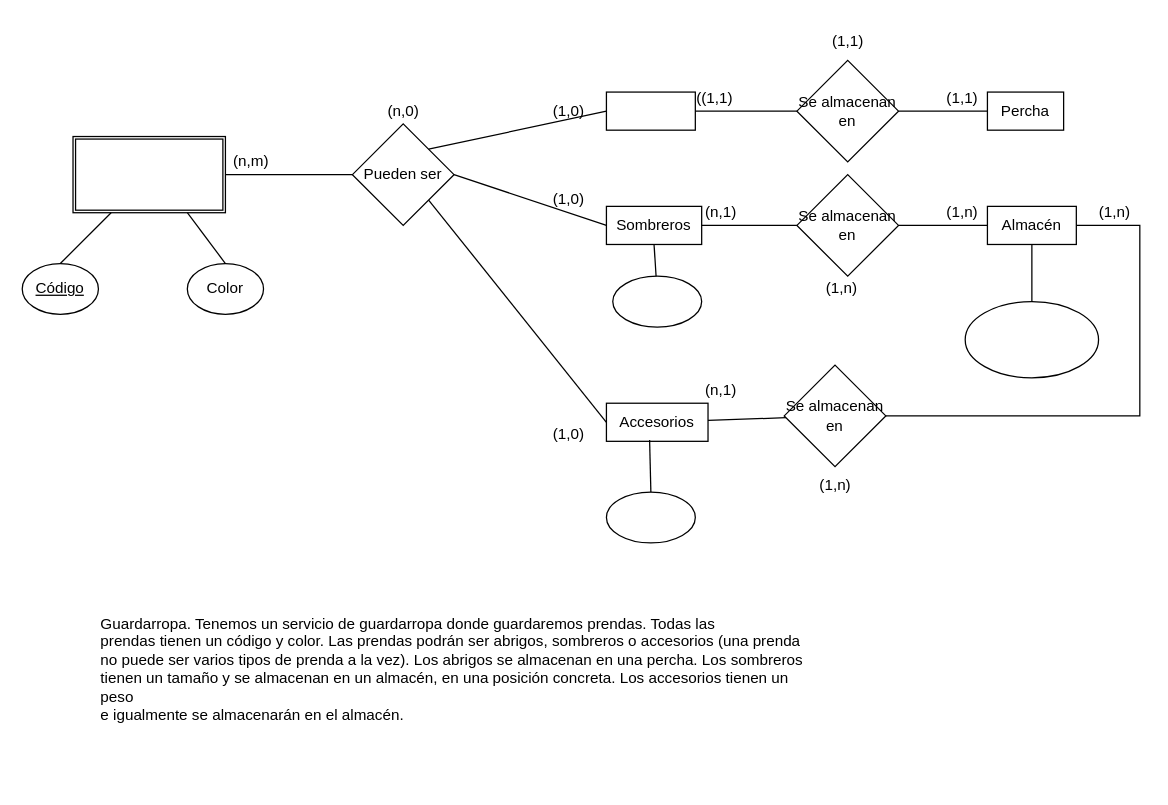
This 1168x805 diagram has some shape labels left out. Each missing label, with the box of its shape:
Abrigos: (605, 91, 695, 130)
Almacenaje en concreto para los sombreros: (964, 300, 1099, 378)
Peso: (605, 491, 695, 543)
Prendas: (72, 135, 225, 213)
Tamaño: (612, 275, 702, 327)
